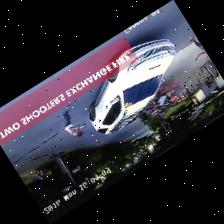person: (63, 105, 85, 136), (190, 38, 208, 60), (154, 94, 166, 109), (44, 164, 51, 174), (35, 169, 42, 178)
